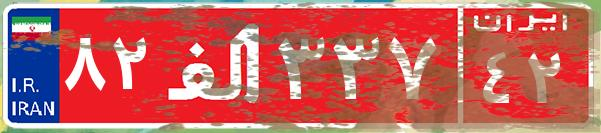2: (110, 28, 158, 105), (525, 38, 570, 115)
3: (273, 28, 330, 110), (330, 28, 385, 110)
4: (475, 38, 525, 113)
7: (385, 28, 445, 110)
8: (57, 26, 110, 107)
الف: (158, 15, 273, 115)
